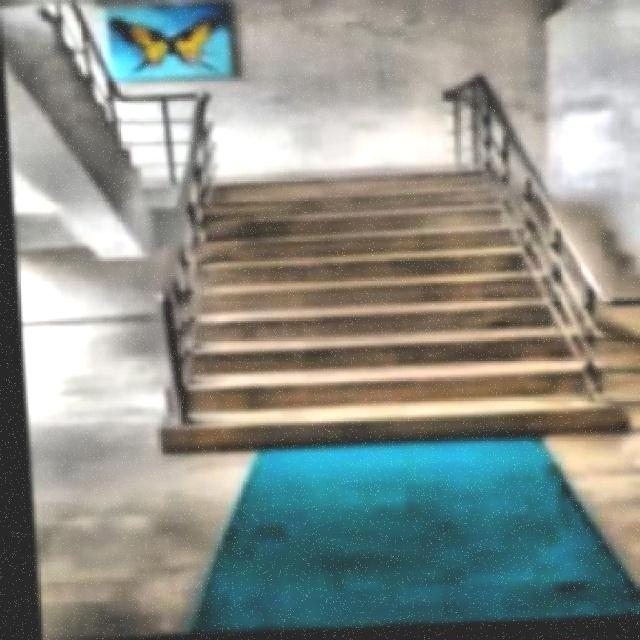stair: (165, 168, 623, 457)
